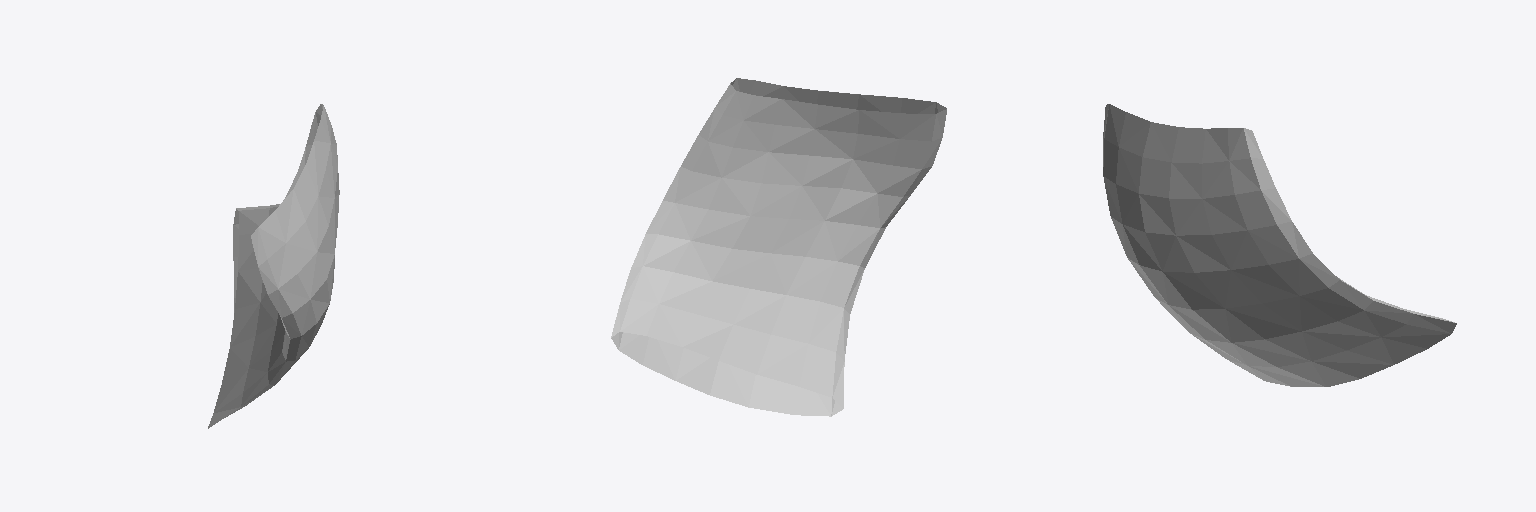
The model's file is depressor_labii_inferioris_left.obj.
The picture shows the model from 3 angles: view 1: azimuth 30°, elevation 25°; view 2: azimuth 150°, elevation 25°; view 3: azimuth 270°, elevation 25°; orthographic projection.
Visible parts, largest first — view 1: Depressor_Labii_Inferioris_Muscle_Left; view 2: Depressor_Labii_Inferioris_Muscle_Left; view 3: Depressor_Labii_Inferioris_Muscle_Left.
Part boxes in pixels (bbox=[...]): Depressor_Labii_Inferioris_Muscle_Left: bbox=[208, 104, 339, 428]; Depressor_Labii_Inferioris_Muscle_Left: bbox=[611, 78, 946, 416]; Depressor_Labii_Inferioris_Muscle_Left: bbox=[1103, 104, 1456, 386].
Size of the model in its own units: 0.153 by 0.2413 by 0.2539.